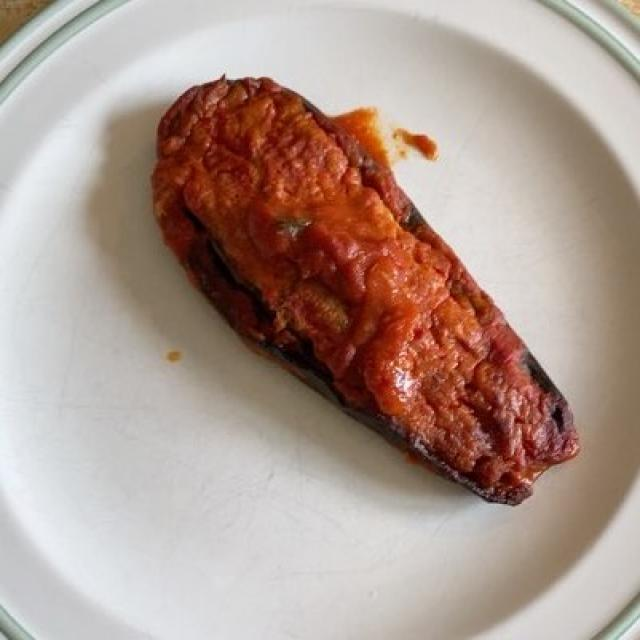eggplant: (154, 76, 574, 498)
tomato-sauce: (164, 95, 551, 498)
